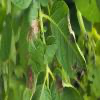Potato leaf late blight: (49, 1, 89, 81), (18, 4, 46, 99), (50, 68, 84, 100)
